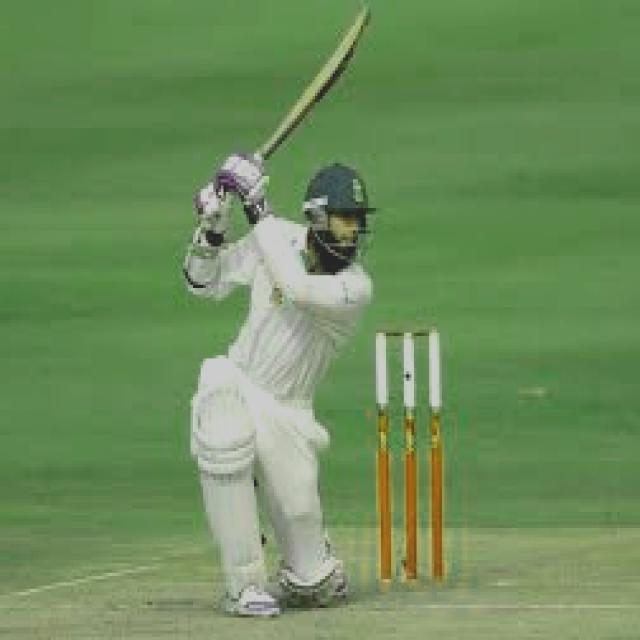toe: (337, 10, 370, 64)
